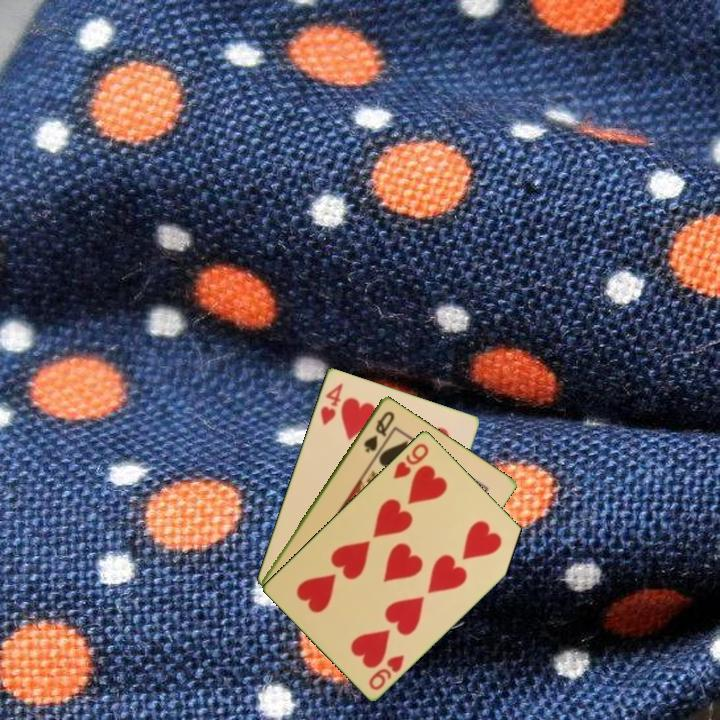4h: (317, 379, 346, 428)
9h: (365, 650, 408, 693), (390, 439, 431, 482)
Qs: (360, 407, 398, 455)
